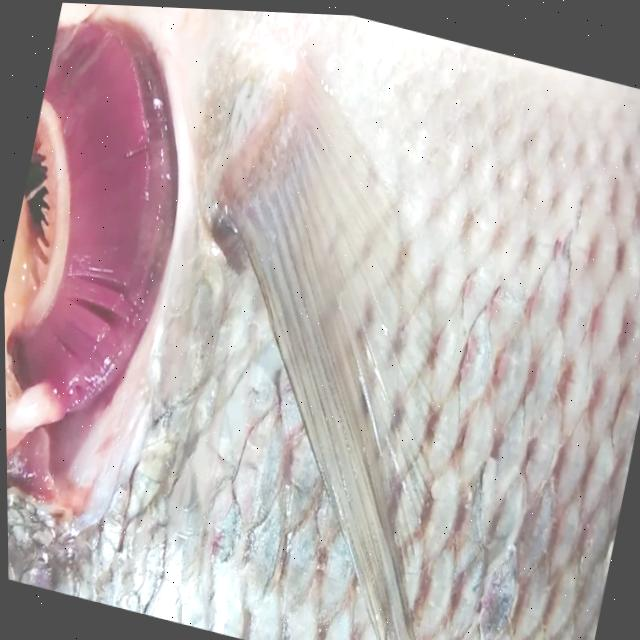Fresh: (0, 0, 222, 505)
